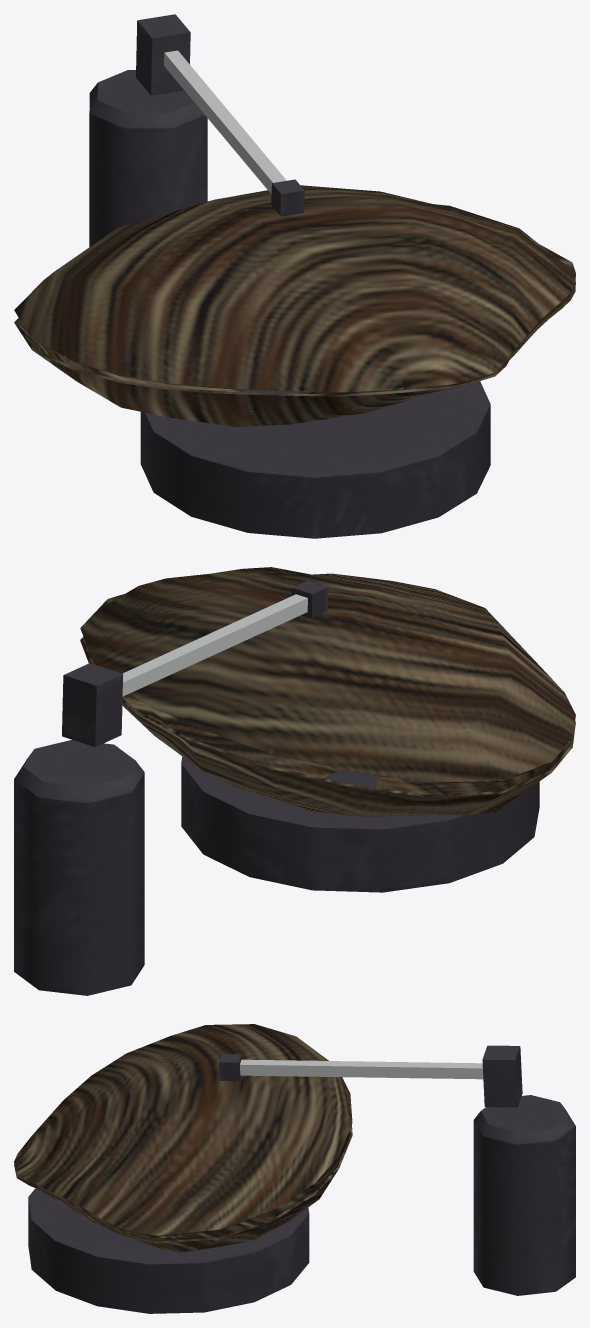
Rendered from Asari.fbx.
3 renders of one model, top to bottom at view 1: azimuth 30°, elevation 25°; view 2: azimuth 150°, elevation 25°; view 3: azimuth 270°, elevation 25°, orthographic. The views are drawn at different scales.
Parts seen in each view (by area): view 1: Asari; view 2: Asari; view 3: Asari.
Boxes of the visible parts, <box> form: Asari: <box>14,14,575,538</box>; Asari: <box>14,567,575,995</box>; Asari: <box>14,1024,575,1313</box>.
Size of the model in its own units: 0.0563 by 0.0306 by 0.0697.
